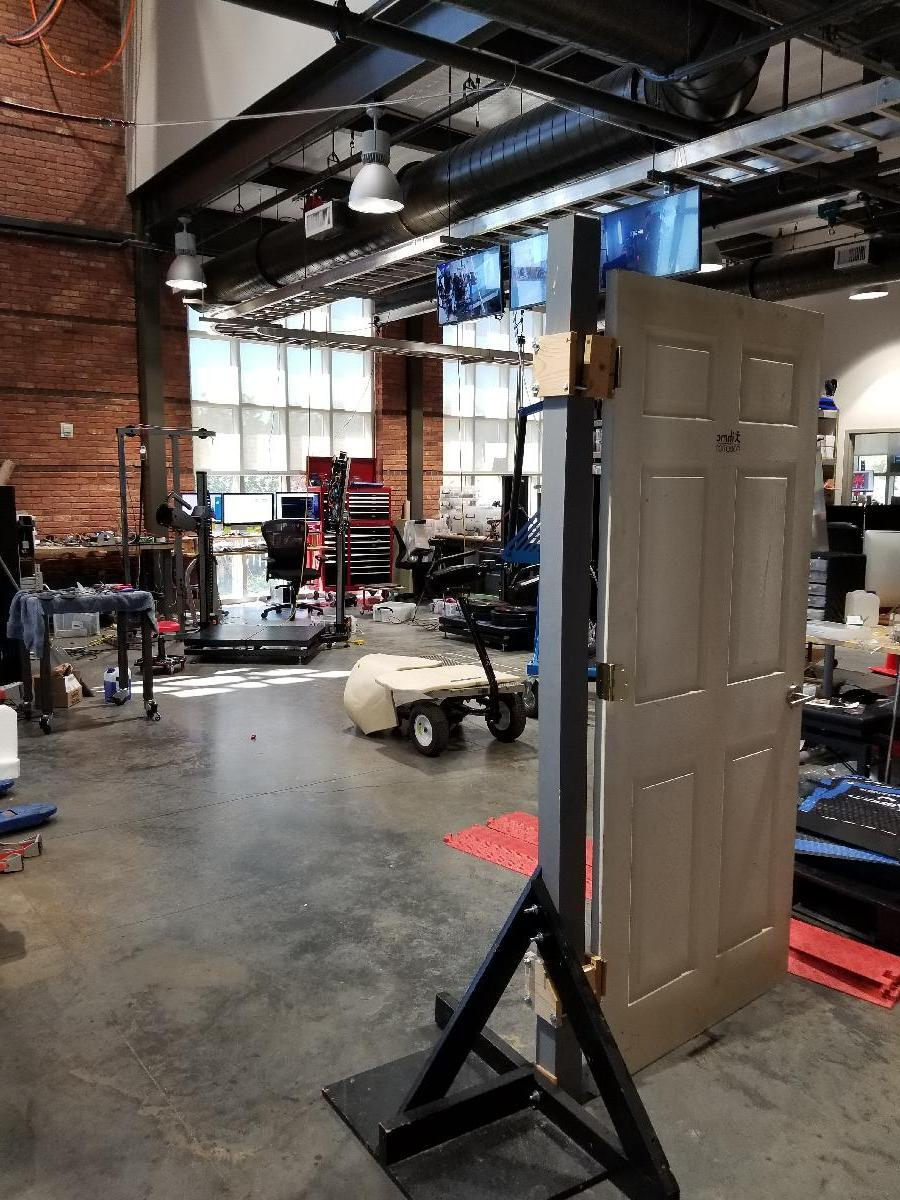door: (596, 268, 802, 1063)
